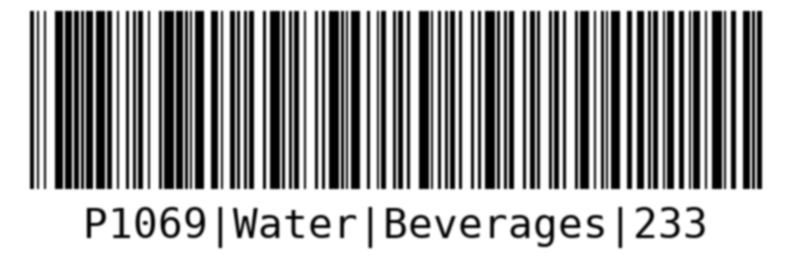milk: (22, 6, 771, 265)
